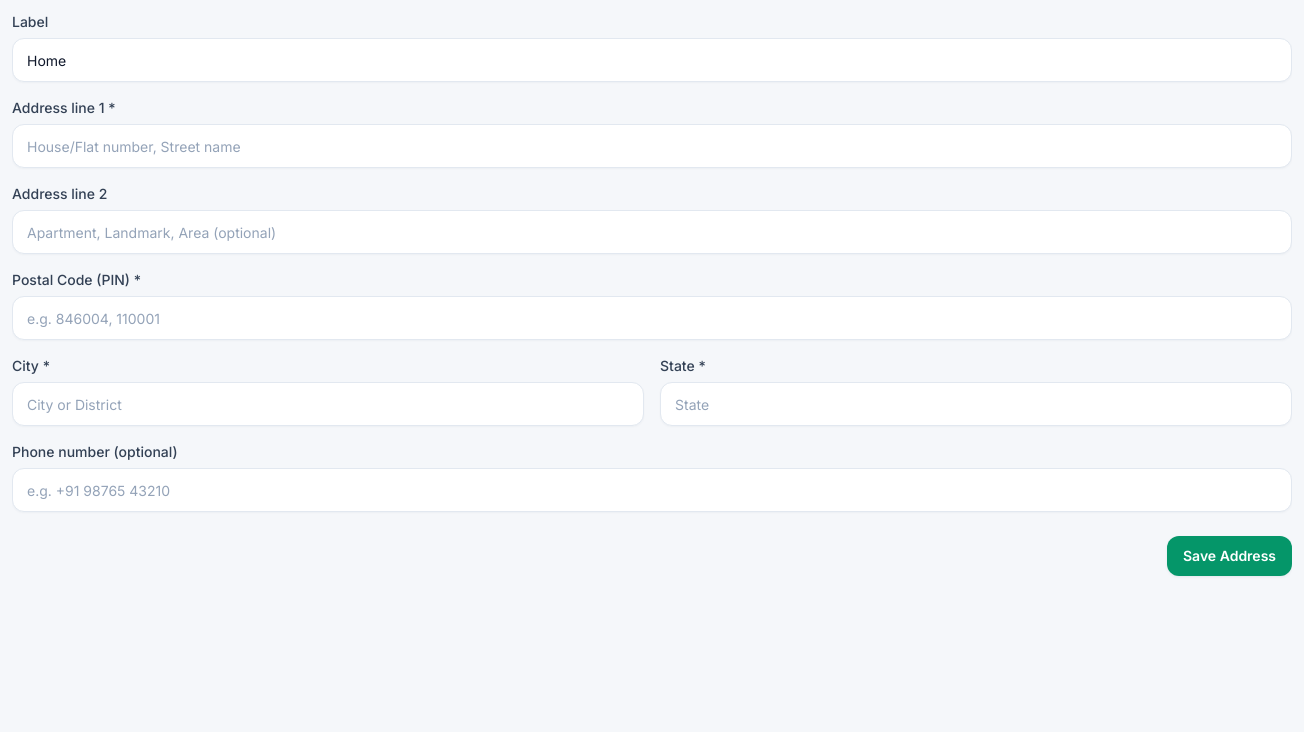
Test: AddressForm & PIN Code Auto-Fill › validates required fields on empty submit
The width and height of the screenshot is (1304, 732).
Click the button "Save Address": (1230, 556) top-left (1167, 536), bottom-right (1292, 576)
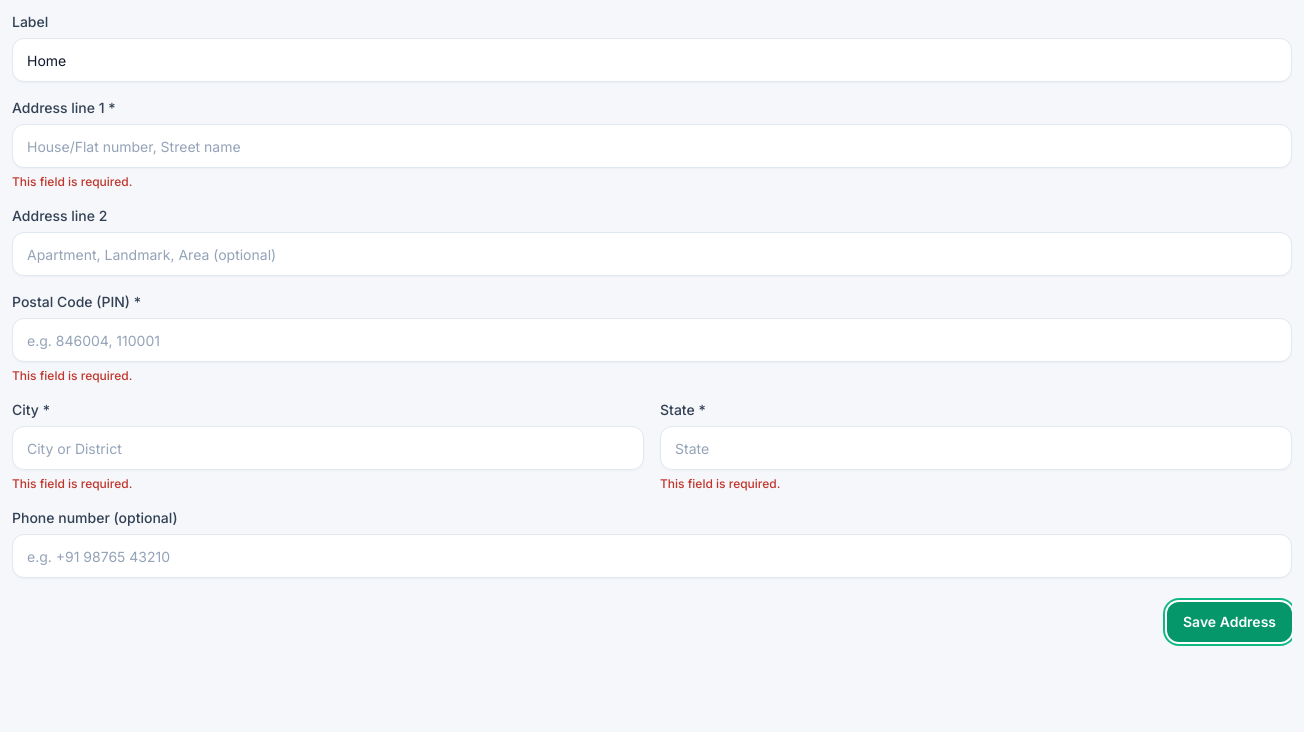
Now the text "This field is required." below "Address line 1 *" is shown, box top-left (12, 174), bottom-right (132, 189)
